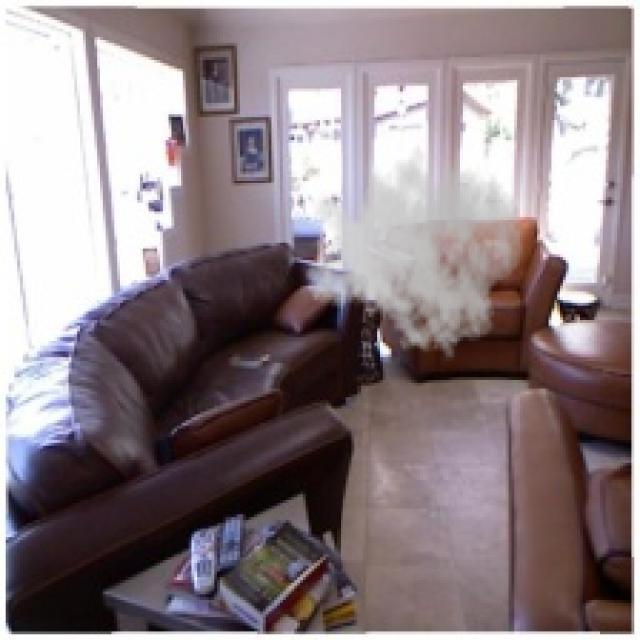smoke: (306, 131, 526, 360)
